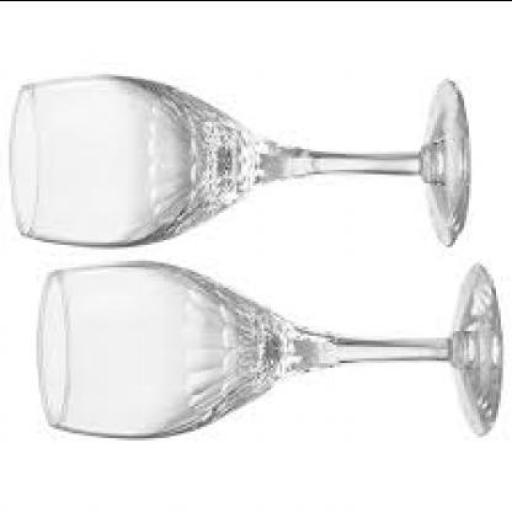glass: (36, 262, 500, 438), (7, 75, 467, 250)
